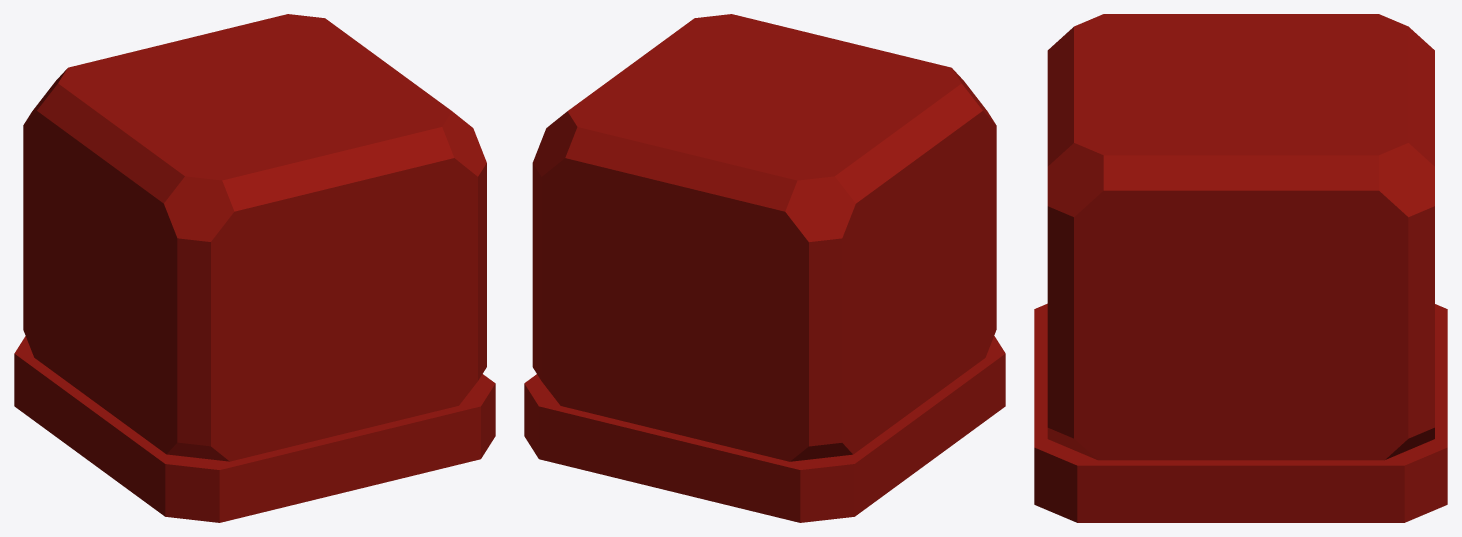
Rendered from EnergyBox.fbx.
3 views of the same model, side by side, from view 1: azimuth 30°, elevation 25°; view 2: azimuth 150°, elevation 25°; view 3: azimuth 270°, elevation 25° (orthographic). The views are drawn at different scales.
Parts seen in each view (by area): view 1: CubeSimple; view 2: CubeSimple; view 3: CubeSimple.
Boxes of the visible parts, <box> form: CubeSimple: <box>14,14,495,522</box>; CubeSimple: <box>524,14,1005,522</box>; CubeSimple: <box>1034,14,1447,522</box>.
Size of the model in its own units: 213 by 200 by 213.
